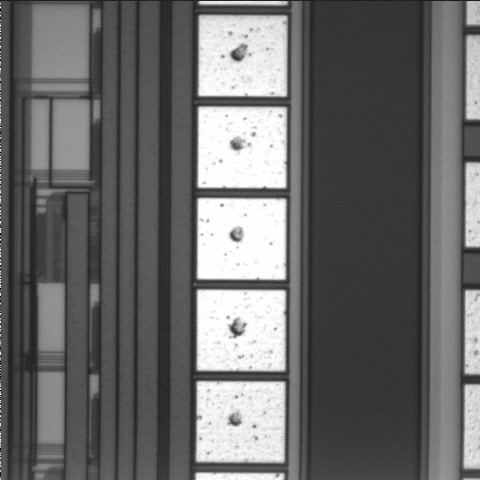pad: (198, 15, 287, 97), (197, 198, 286, 280), (198, 107, 287, 188), (197, 290, 286, 371), (196, 381, 285, 462)
